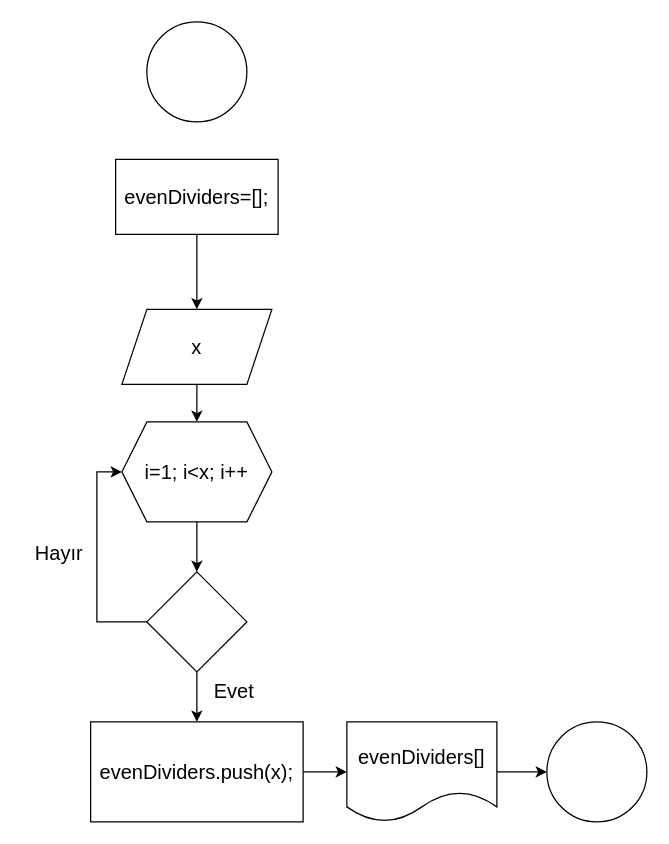
This 669x844 diagram has some shape labels left out. Each missing label, with the centre of its shape:
Basla: pixel 196 71
Bitir: pixel 596 771
x%i=0: pixel 196 621
